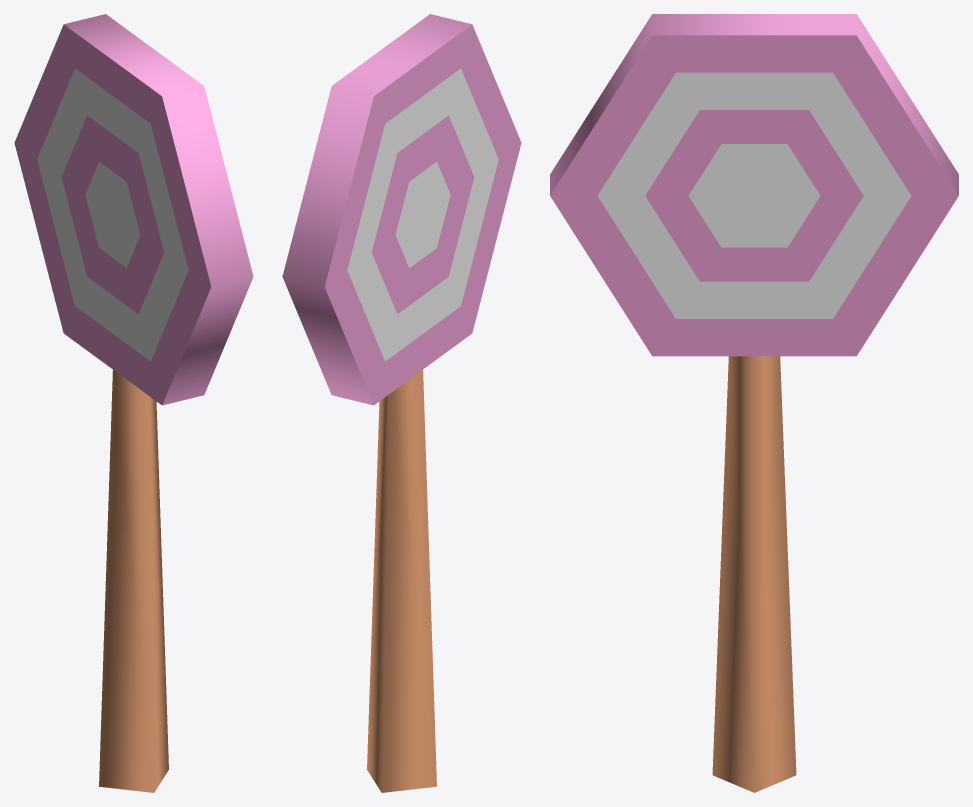
Rendered from Lollypop.glb.
The picture shows the model from 3 angles, left to right: view 1: azimuth 30°, elevation 25°; view 2: azimuth 150°, elevation 25°; view 3: azimuth 270°, elevation 25°; orthographic projection. The views are drawn at different scales.
Parts seen in each view (by area): view 1: lollypop; view 2: lollypop; view 3: lollypop.
Boxes of the visible parts, x1,y1,x2,y2 form: lollypop: (14,14,253,792); lollypop: (282,14,521,792); lollypop: (550,14,958,792).
Bounding box in the file's own units: 0.0385 × 0.3798 × 0.1875.
